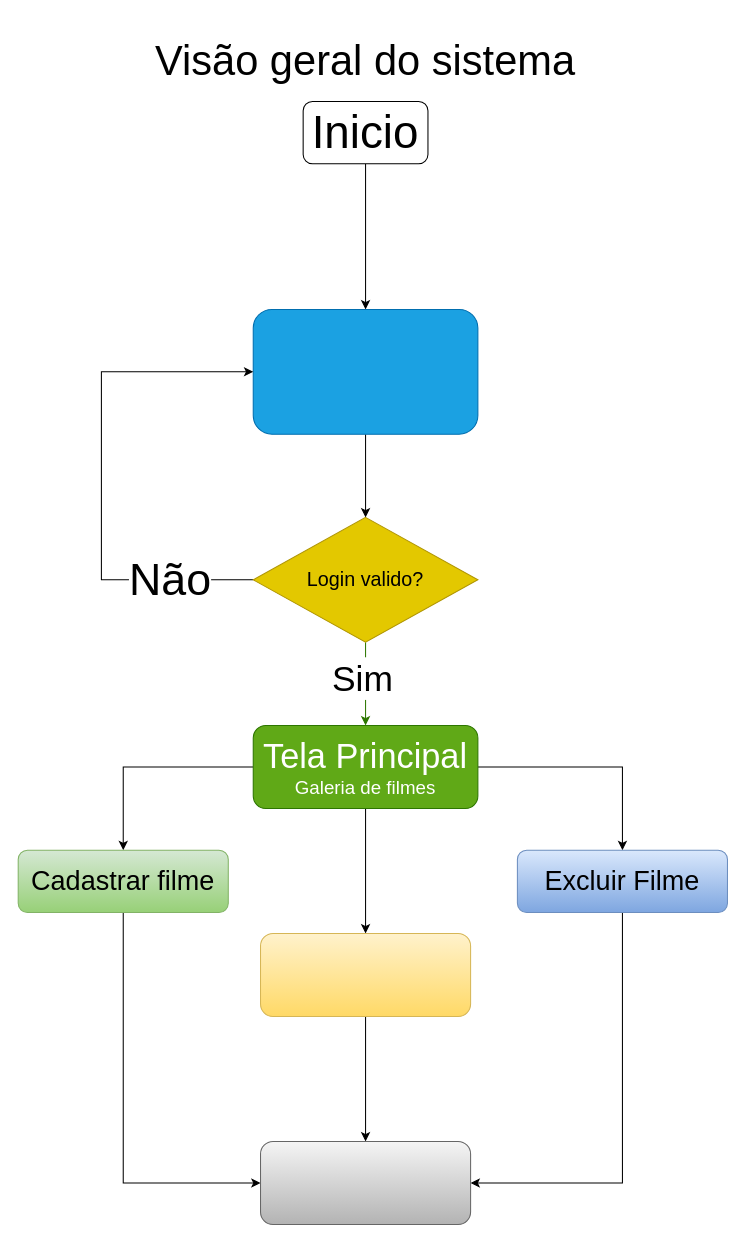
Some shapes in this 746 by 1243 pixel diagram are drawn without their labels. The box of each missing label's shape, as (x1, y1, x2, y2) in pixels:
Atualiza a Lista de filmes Galeria de filmes: (259, 1140, 471, 1225)
Editar filme: (259, 932, 471, 1017)
Tela de login Informar e-mail e senha: (252, 308, 478, 434)
